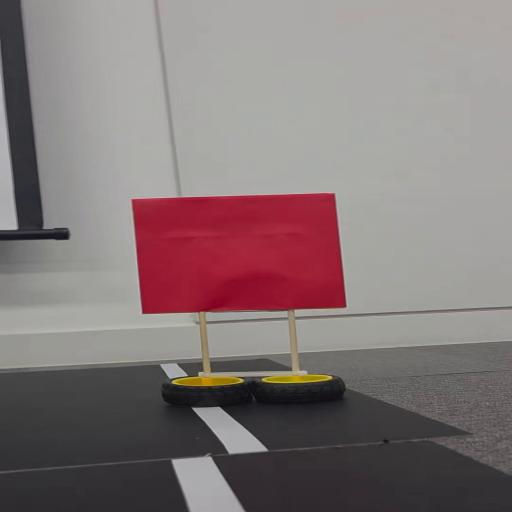Sign_A: (123, 193, 356, 405)
